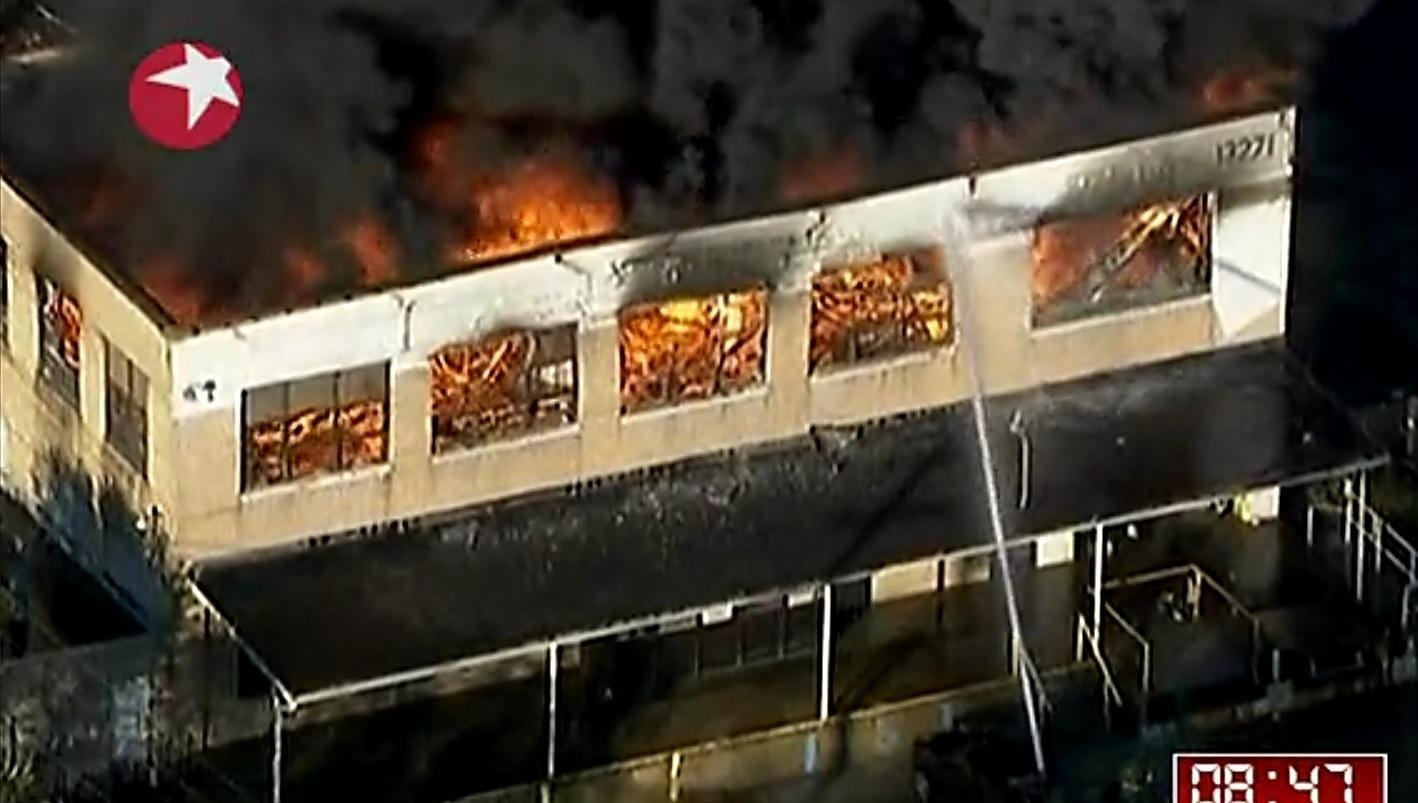fire: (1026, 193, 1208, 299), (805, 248, 956, 358), (619, 287, 766, 399), (456, 175, 612, 260)
